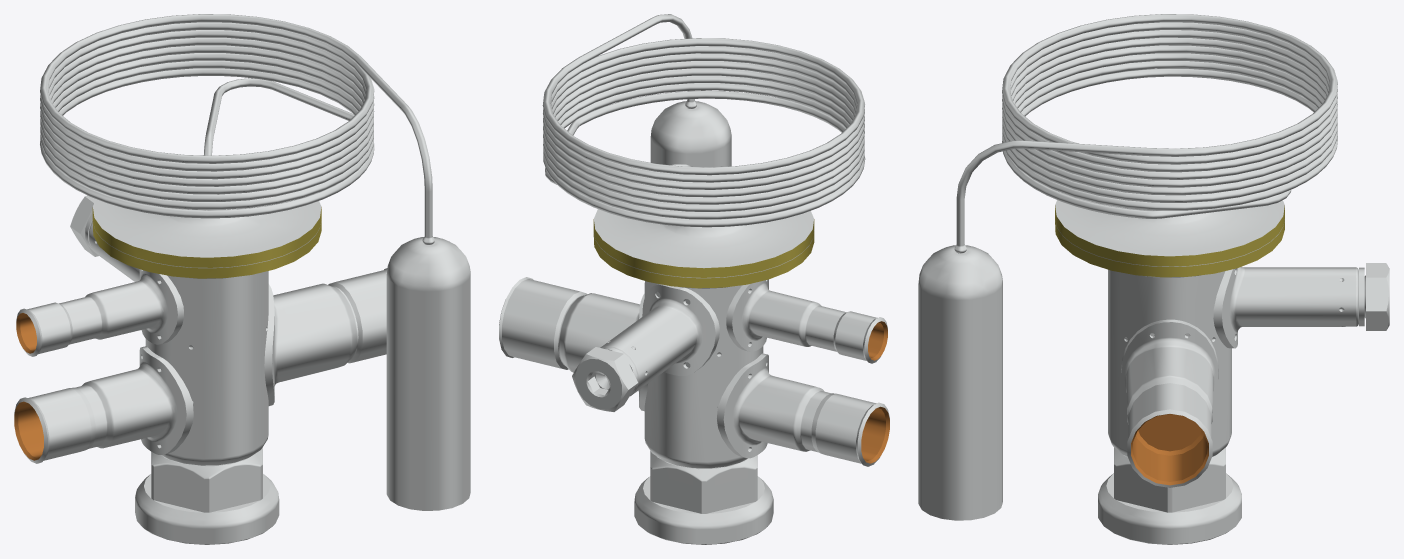
3 views of the same model, side by side, from view 1: azimuth 30°, elevation 25°; view 2: azimuth 150°, elevation 25°; view 3: azimuth 270°, elevation 25° (orthographic). The views are drawn at different scales.
Visible parts, largest first — view 1: Solid1; view 2: Solid1; view 3: Solid1.
Part boxes in pixels (x1,y1,x2,y2): Solid1: [14, 14, 470, 544]; Solid1: [499, 14, 889, 544]; Solid1: [918, 14, 1389, 544].
Bounding box in the file's own units: 0.2894 × 0.3203 × 0.3142.
